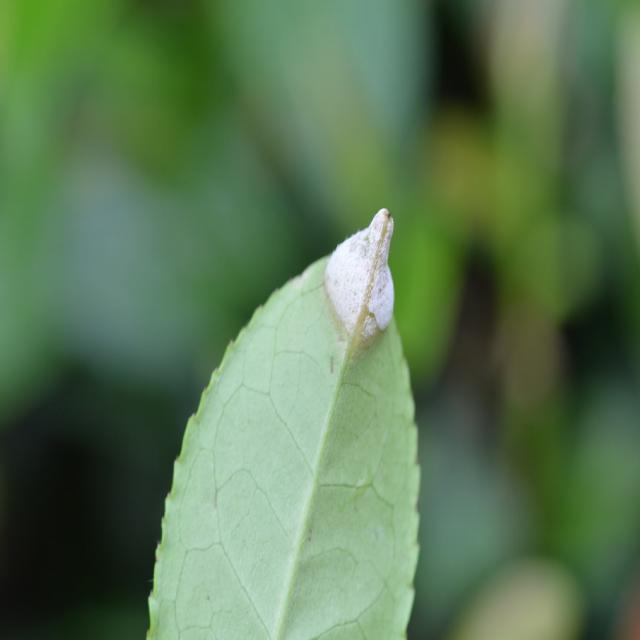Tea cake: (332, 210, 421, 343)
